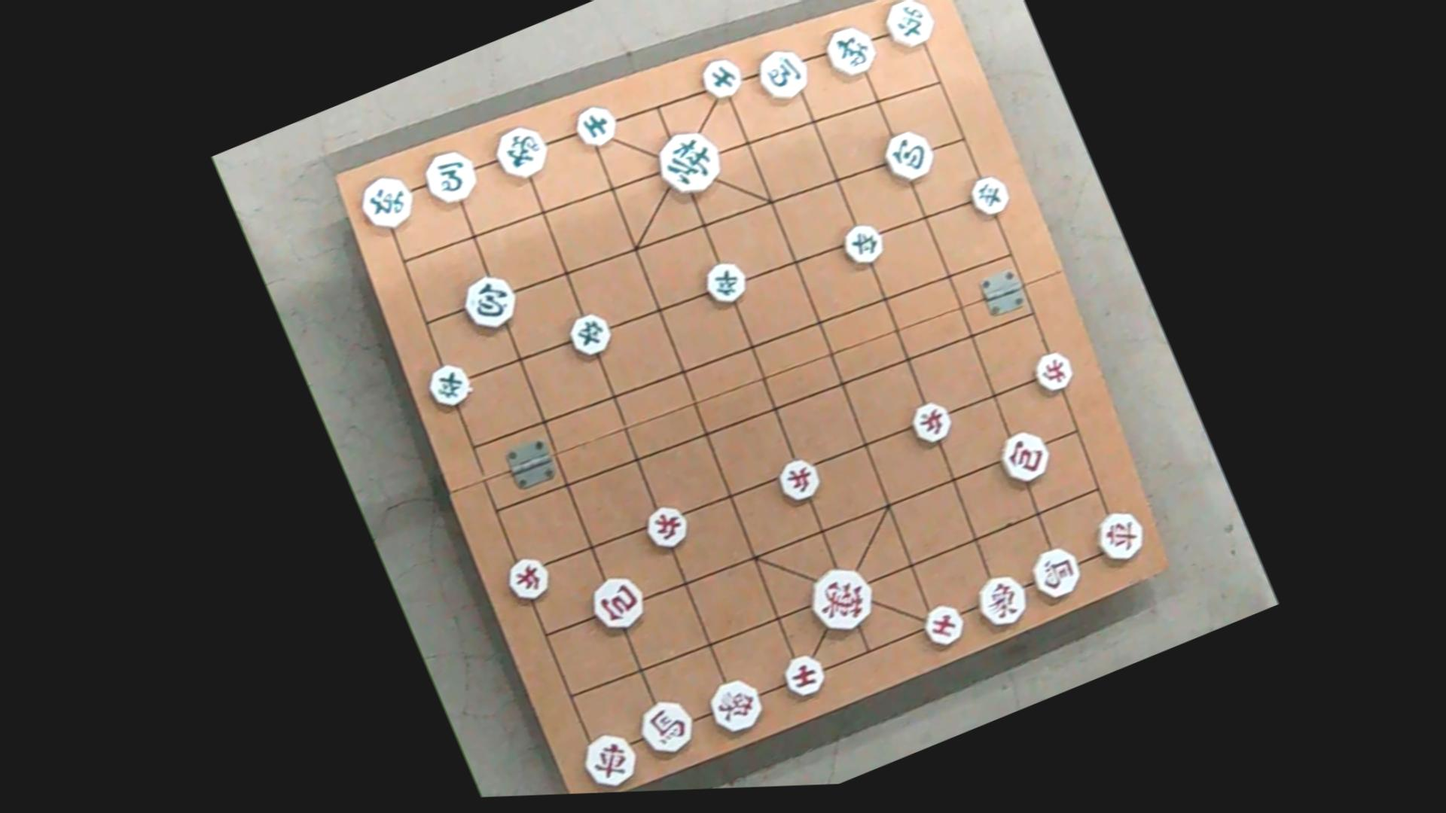cha_green: (352, 169, 417, 235), (875, 0, 937, 57)
cha_red: (574, 725, 645, 793), (1088, 505, 1153, 570)
jol_green: (423, 361, 476, 416), (562, 306, 614, 361), (700, 257, 751, 310), (837, 220, 888, 273), (965, 171, 1013, 225)
jol_red: (639, 500, 696, 556), (770, 452, 822, 509), (1024, 344, 1079, 397), (502, 551, 553, 607), (905, 396, 954, 449)
ma_green: (749, 40, 817, 112), (416, 141, 481, 209)
ma_red: (632, 697, 698, 766), (1024, 541, 1084, 605)
po_green: (455, 269, 523, 337), (875, 123, 941, 190)
po_red: (583, 570, 650, 638), (992, 427, 1053, 491)
sa_green: (694, 51, 744, 103), (569, 99, 619, 151)
sa_red: (776, 648, 834, 707), (914, 598, 972, 653)
sang_green: (484, 119, 557, 191), (815, 18, 886, 88)
sang_red: (700, 670, 770, 743), (968, 568, 1036, 635)
wang_green: (648, 123, 725, 203)
wang_red: (800, 560, 880, 643)
